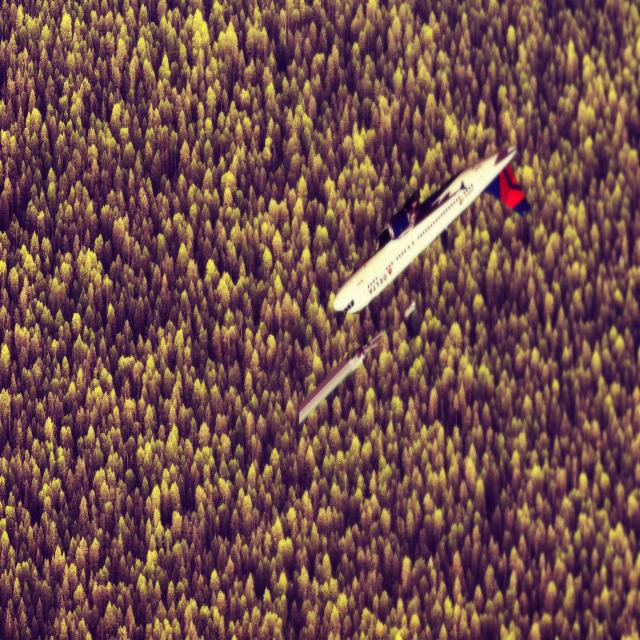airplane: (332, 144, 530, 318)
